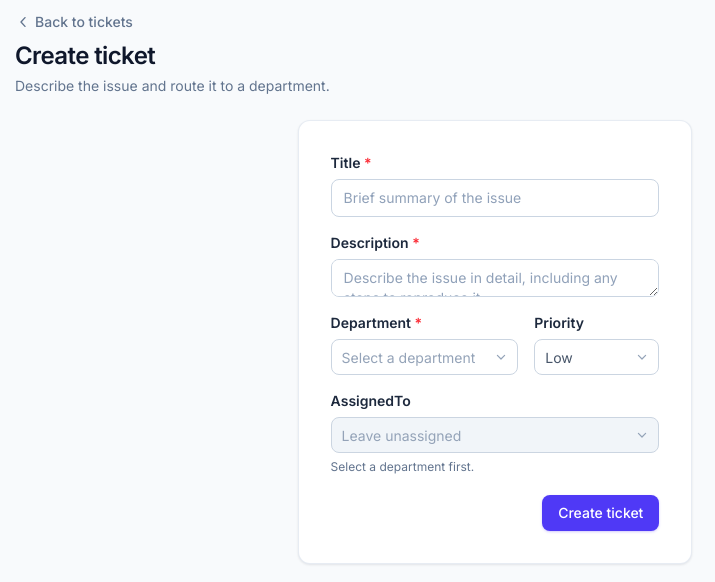
CreateTicketPage › only offers assignees from the department selected in the form
The image size is (715, 582).
Check: the field labelled "Title *" is shown, box [331,179,659,217]
Click the dropdown labelled "Department *". click: (344, 357)
box: [342,346,346,368]
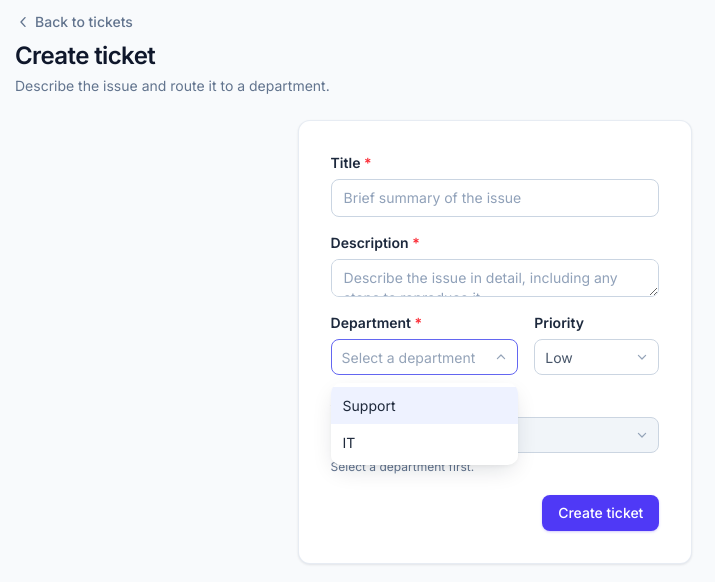
Click the option "Support". click: (424, 406)
box: [331,387,518,424]
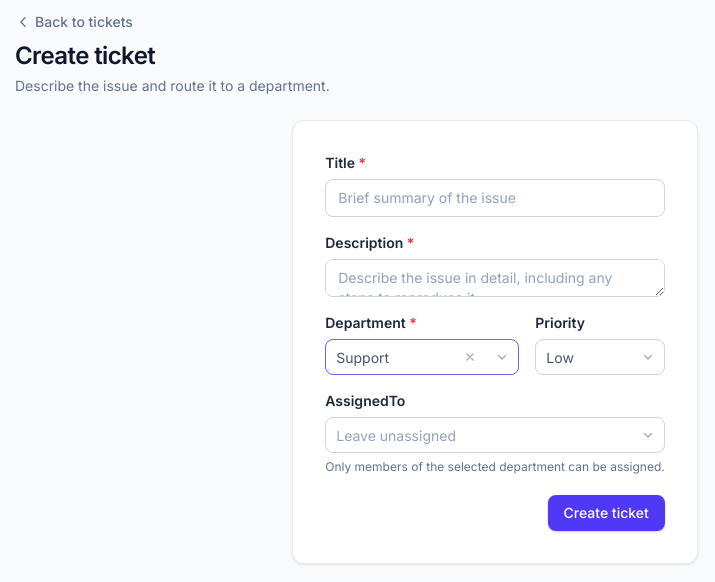
Click the dropdown labelled "AssignedTo". click: (338, 435)
box: [336,424,340,446]
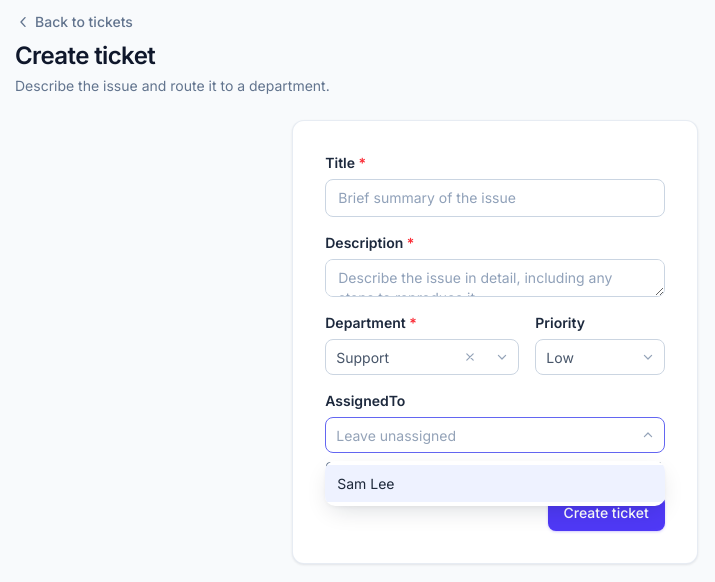
Check: the option "Sam Lee" is shown, box [325,465,665,502]
